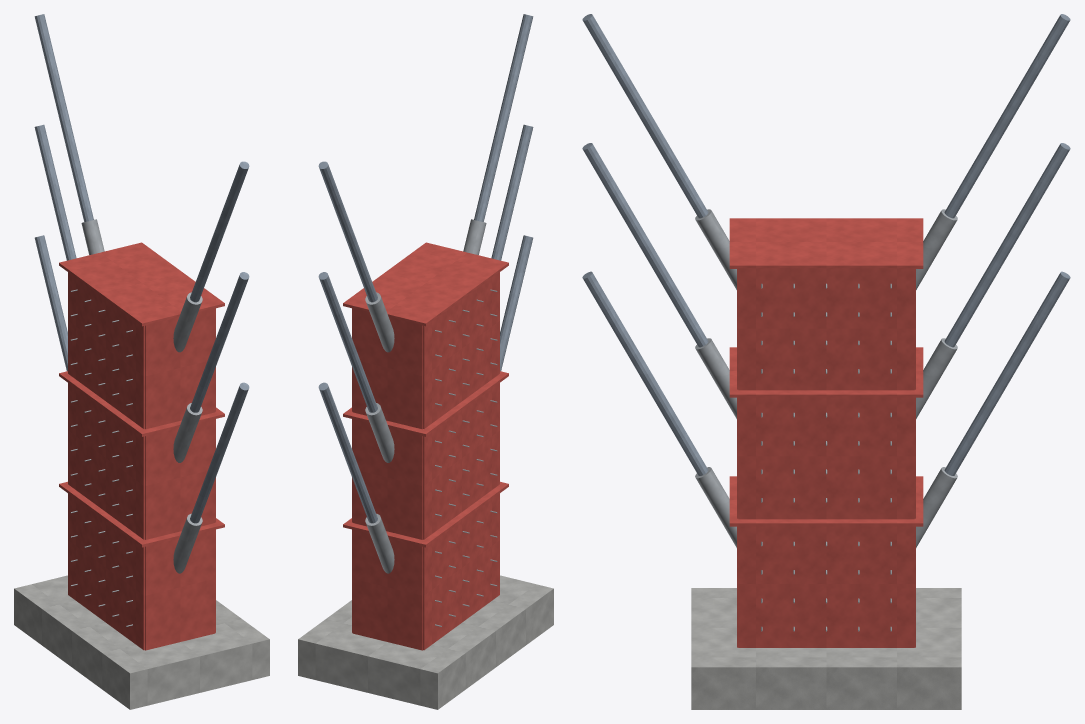
Rendered from pylon-anchor-boxes.glb.
3 renders of one model, left to right at view 1: azimuth 30°, elevation 25°; view 2: azimuth 150°, elevation 25°; view 3: azimuth 270°, elevation 25°, orthographic. The views are drawn at different scales.
Parts seen in each view (by area): view 1: AnchorBoxPlates, PylonConcrete(context), StayCables(context), AnchorTubes, ShearStuds; view 2: AnchorBoxPlates, PylonConcrete(context), StayCables(context), AnchorTubes, ShearStuds; view 3: AnchorBoxPlates, PylonConcrete(context), StayCables(context), AnchorTubes.
Boxes of the visible parts, left/top/right/bottom form: AnchorBoxPlates: left=59, top=242, right=224, bottom=650; PylonConcrete(context): left=14, top=575, right=269, bottom=709; StayCables(context): left=34, top=14, right=249, bottom=523; AnchorTubes: left=81, top=219, right=202, bottom=573; ShearStuds: left=70, top=289, right=132, bottom=626; AnchorBoxPlates: left=343, top=242, right=508, bottom=650; PylonConcrete(context): left=298, top=575, right=553, bottom=709; StayCables(context): left=318, top=14, right=533, bottom=523; AnchorTubes: left=365, top=219, right=486, bottom=573; ShearStuds: left=435, top=289, right=497, bottom=626; AnchorBoxPlates: left=729, top=218, right=923, bottom=647; PylonConcrete(context): left=691, top=588, right=961, bottom=709; StayCables(context): left=582, top=14, right=1070, bottom=475; AnchorTubes: left=695, top=209, right=957, bottom=547.
Bounding box in the file's own units: 3.2 × 12.3 × 8.31.
Materials: 5 (5 with a texture image).
